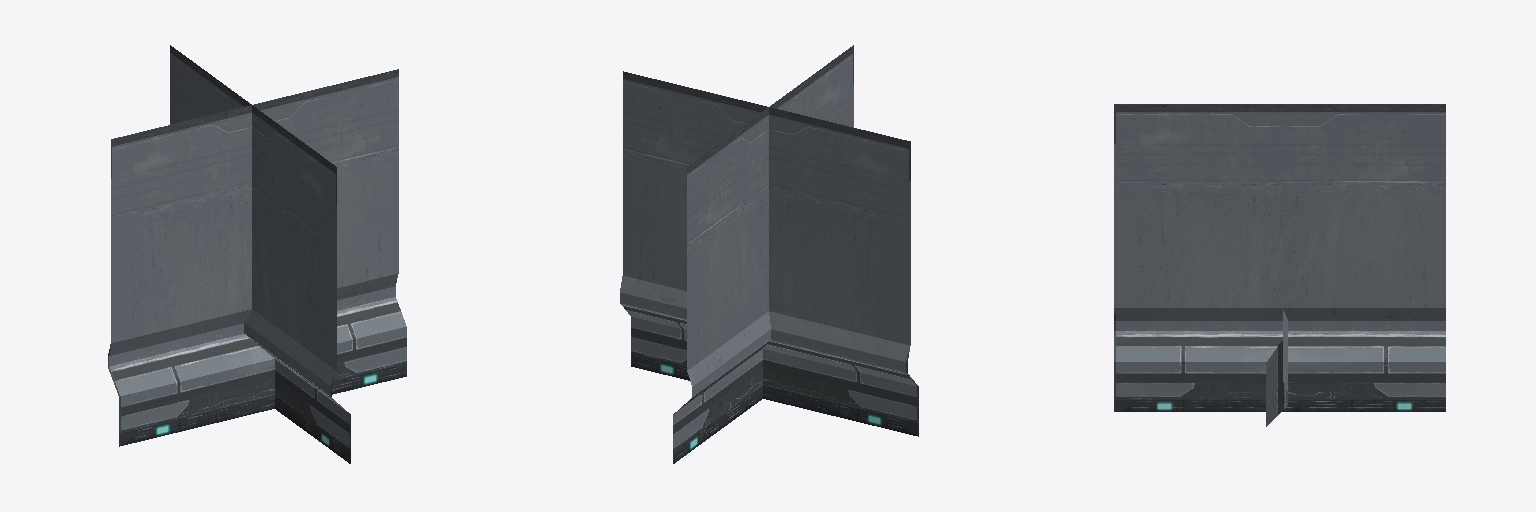
The picture shows the model from 3 angles: view 1: azimuth 30°, elevation 25°; view 2: azimuth 150°, elevation 25°; view 3: azimuth 270°, elevation 25°; orthographic projection.
Parts seen in each view (by area): view 1: Plane.011_Plane.000_Plane.011_Plane.003, Plane.011_Plane.002; view 2: Plane.011_Plane.000_Plane.011_Plane.003, Plane.011_Plane.002; view 3: Plane.011_Plane.002, Plane.011_Plane.000_Plane.011_Plane.003.
Boxes of the visible parts, x1=… form: Plane.011_Plane.000_Plane.011_Plane.003: x1=108, y1=69, x2=406, y2=446; Plane.011_Plane.002: x1=170, y1=45, x2=350, y2=463; Plane.011_Plane.000_Plane.011_Plane.003: x1=620, y1=71, x2=918, y2=436; Plane.011_Plane.002: x1=673, y1=45, x2=853, y2=463; Plane.011_Plane.002: x1=1114, y1=104, x2=1445, y2=411; Plane.011_Plane.000_Plane.011_Plane.003: x1=1266, y1=310, x2=1287, y2=426.
Bounding box in the file's own units: 2 × 2 × 2.
Materials: 2 (1 with a texture image).